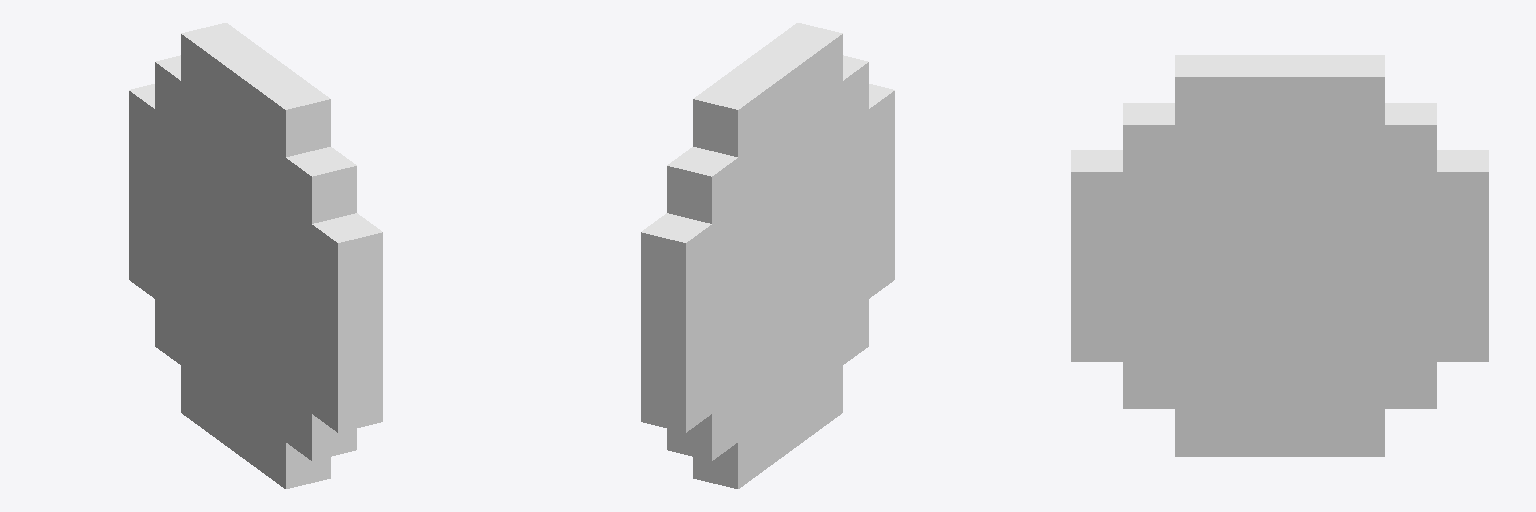
File: Coin.obj
The picture shows the model from 3 angles: view 1: azimuth 30°, elevation 25°; view 2: azimuth 150°, elevation 25°; view 3: azimuth 270°, elevation 25°; orthographic projection.
Size of the model in its own units: 1 by 8 by 8.